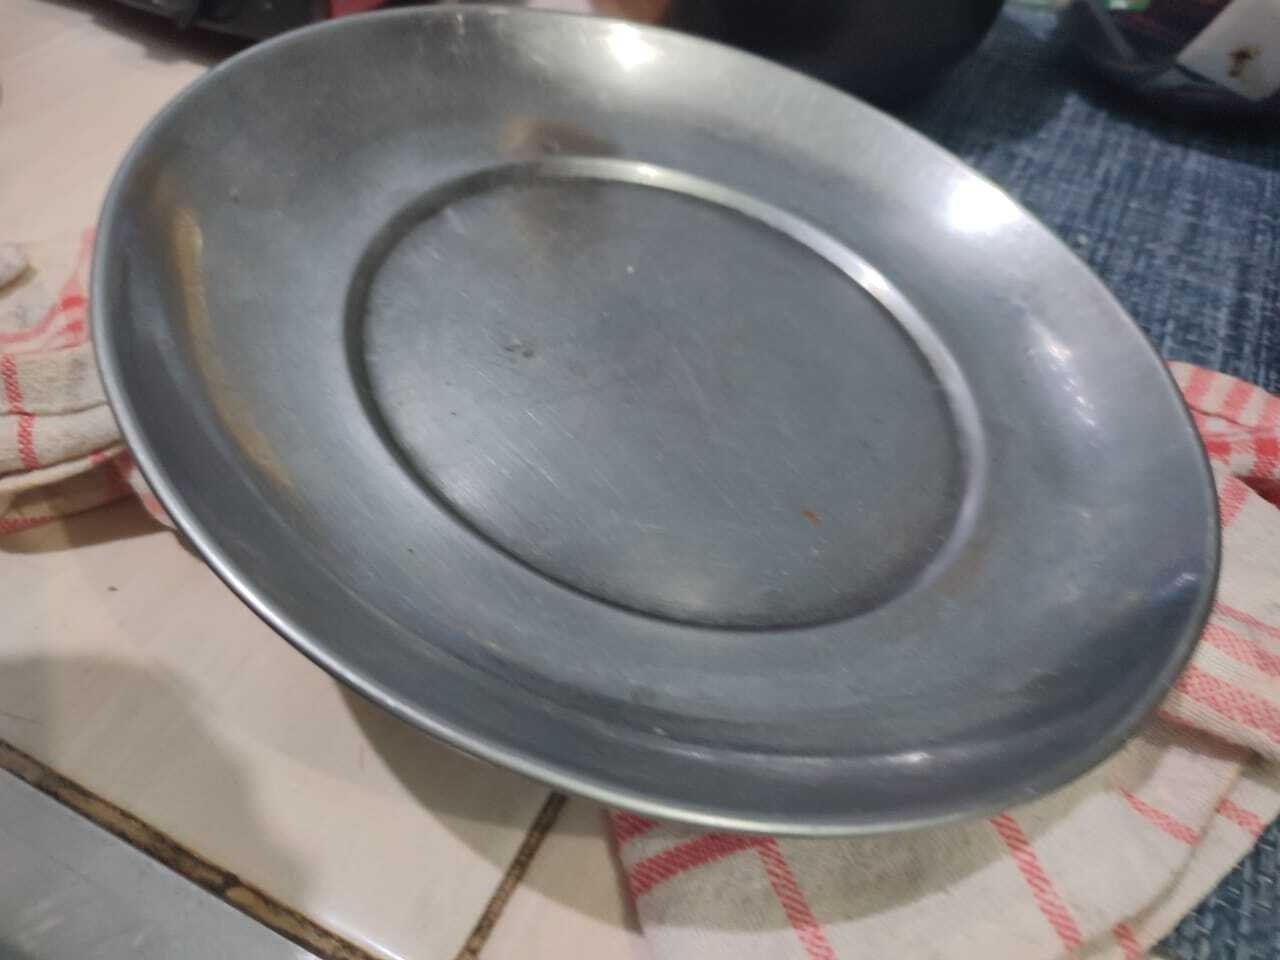piring: (92, 5, 1229, 829)
